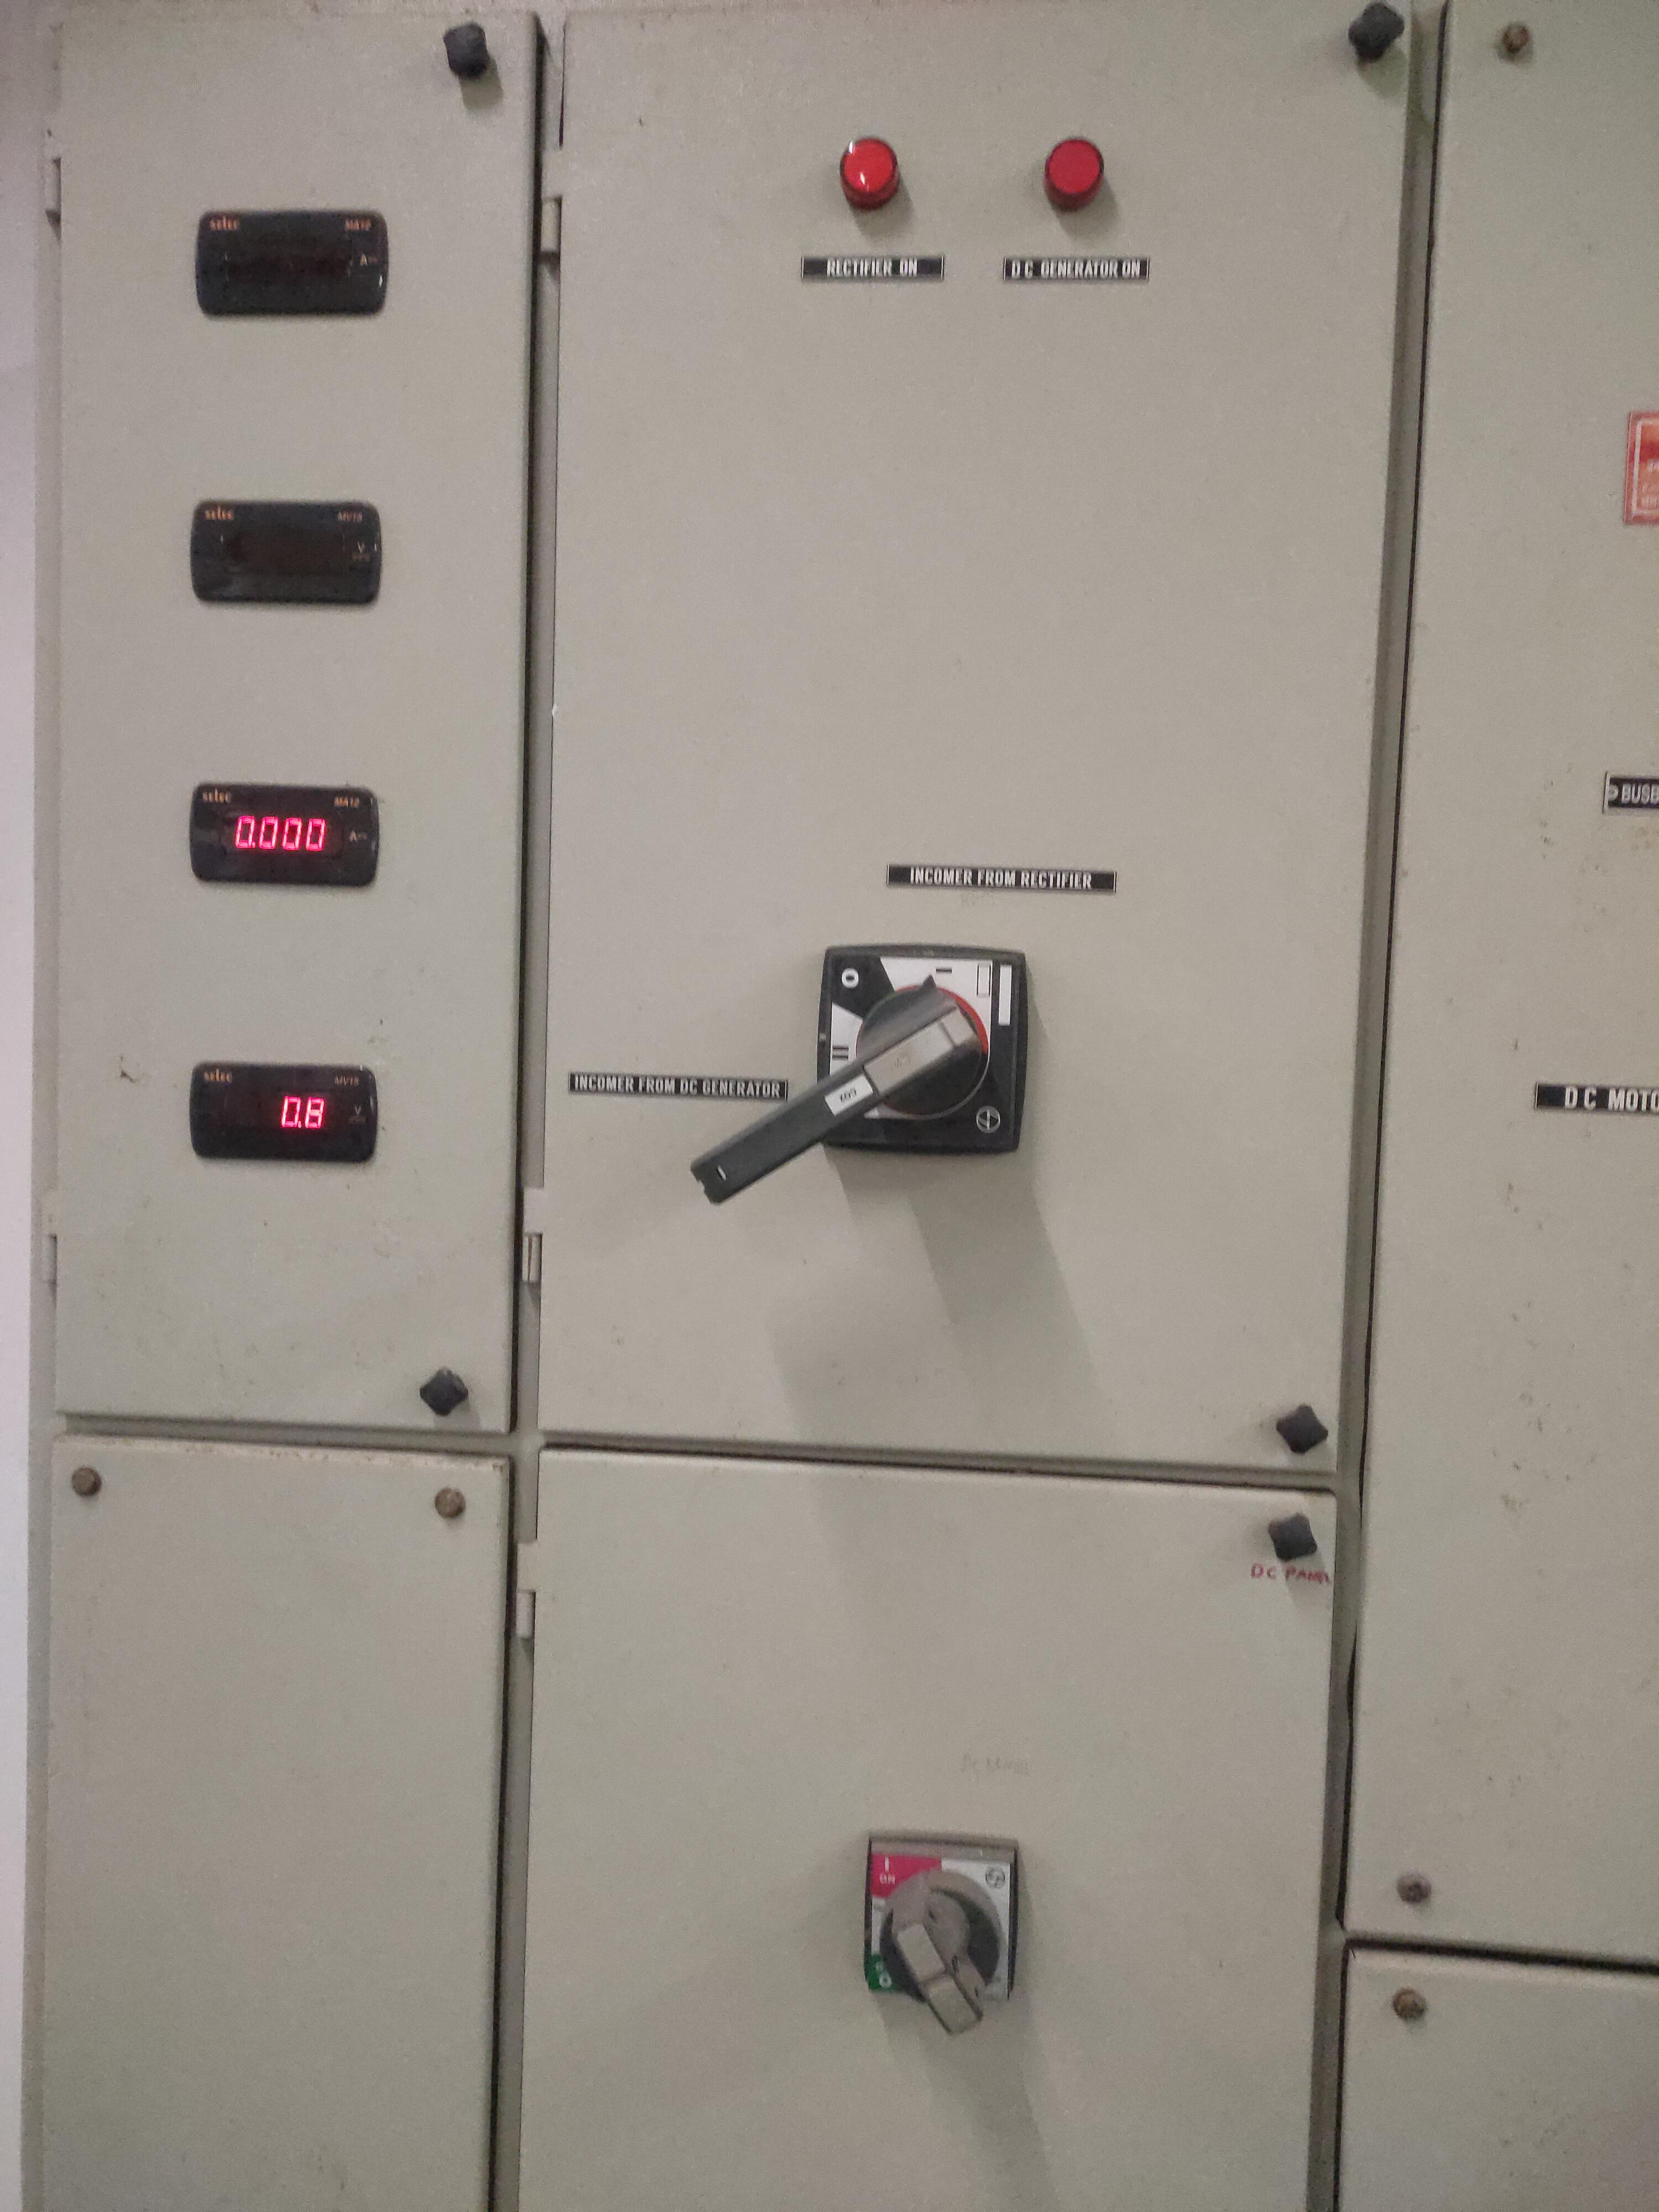Knob 1: (662, 899, 1077, 1242)
Knob 2: (835, 1811, 1054, 2066)
Light Indications: (789, 98, 1169, 326)
